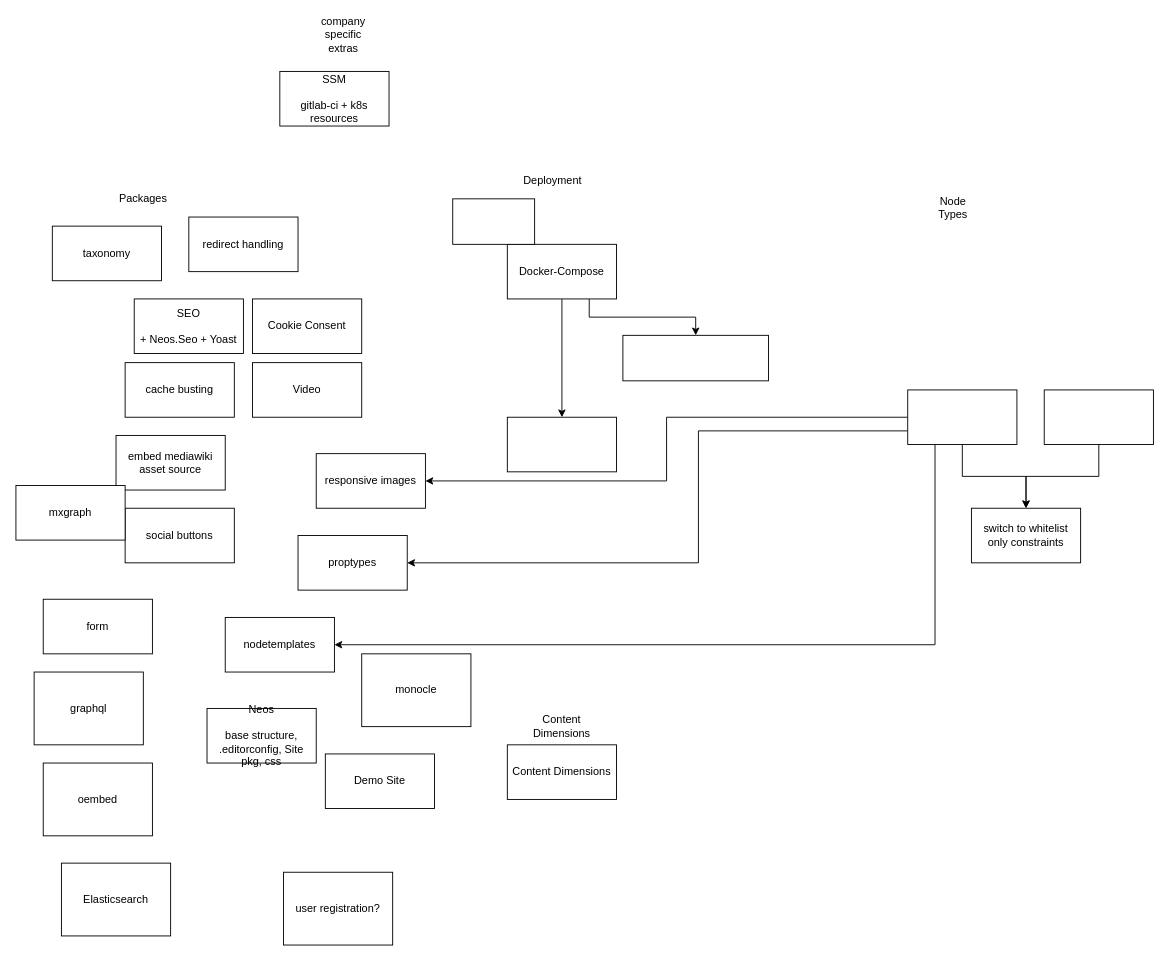
Some shapes in this 1169 by 961 pixel diagram are drawn without their labels. Here are the shapes that lost their labels. From the top down, the box of each, then its label:
(452, 198, 535, 244): in subdirectory
(622, 334, 768, 381): with redis + OptimizedRedisCacheBackend
(907, 389, 1017, 445): default node types (Text, Image, ...)
(1043, 389, 1153, 445): MultiColumn
(506, 416, 617, 472): libvips
